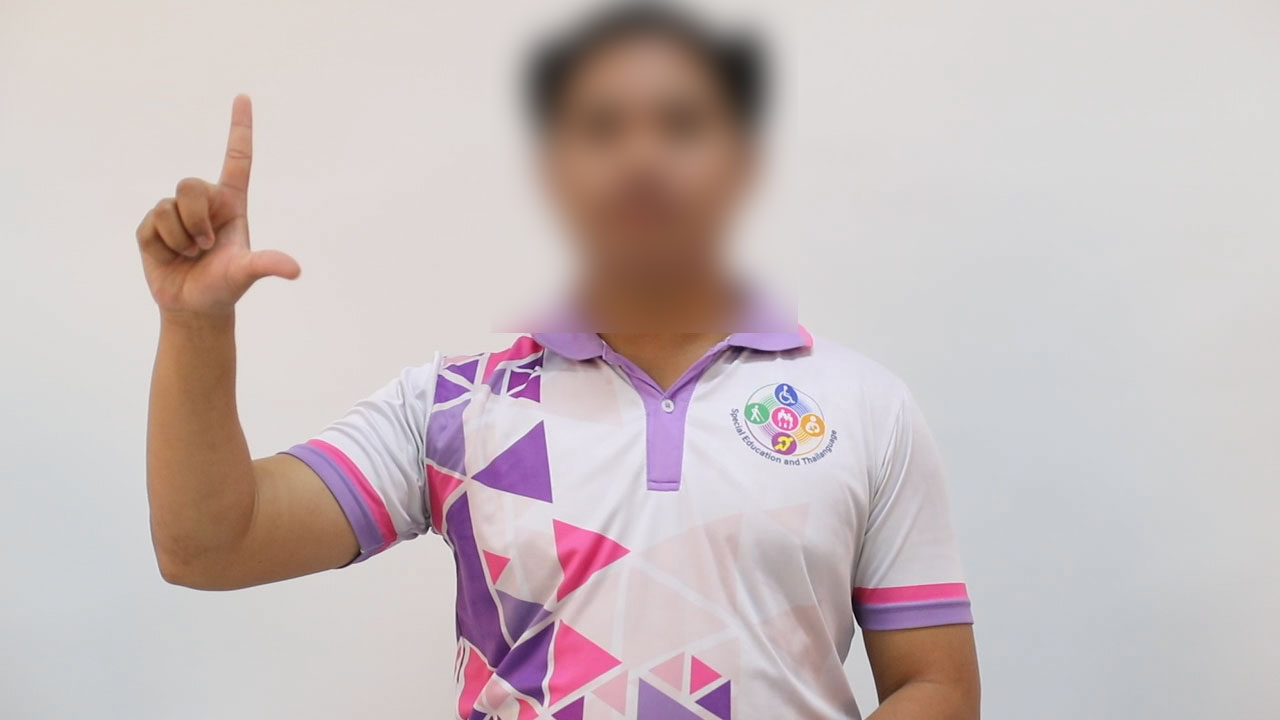lor: (120, 60, 317, 351)
